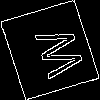W: (24, 24, 86, 83)
